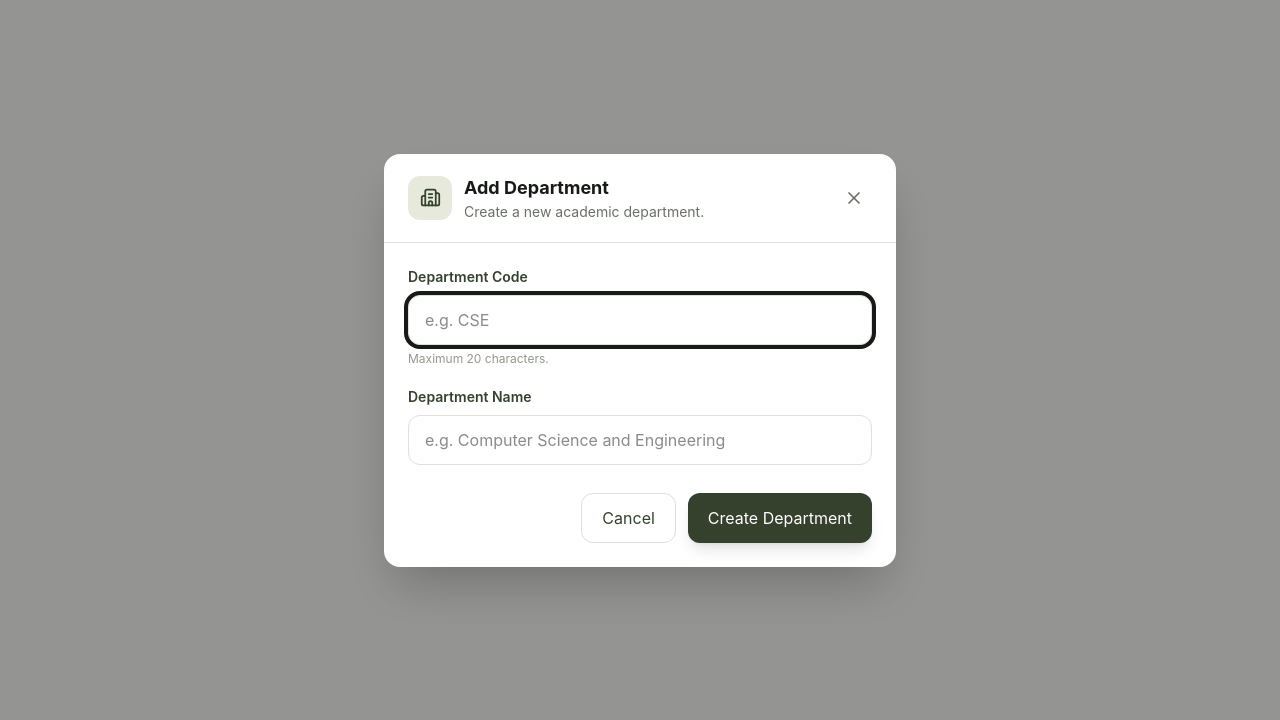
Test: Phase 10 — Master data forms › FRM-10.2: DepartmentForm surfaces a server error
The width and height of the screenshot is (1280, 720).
Type "CSE" into the field with placeholder "e.g. CSE". click: (640, 320)
box: x1=408 y1=294 x2=872 y2=344
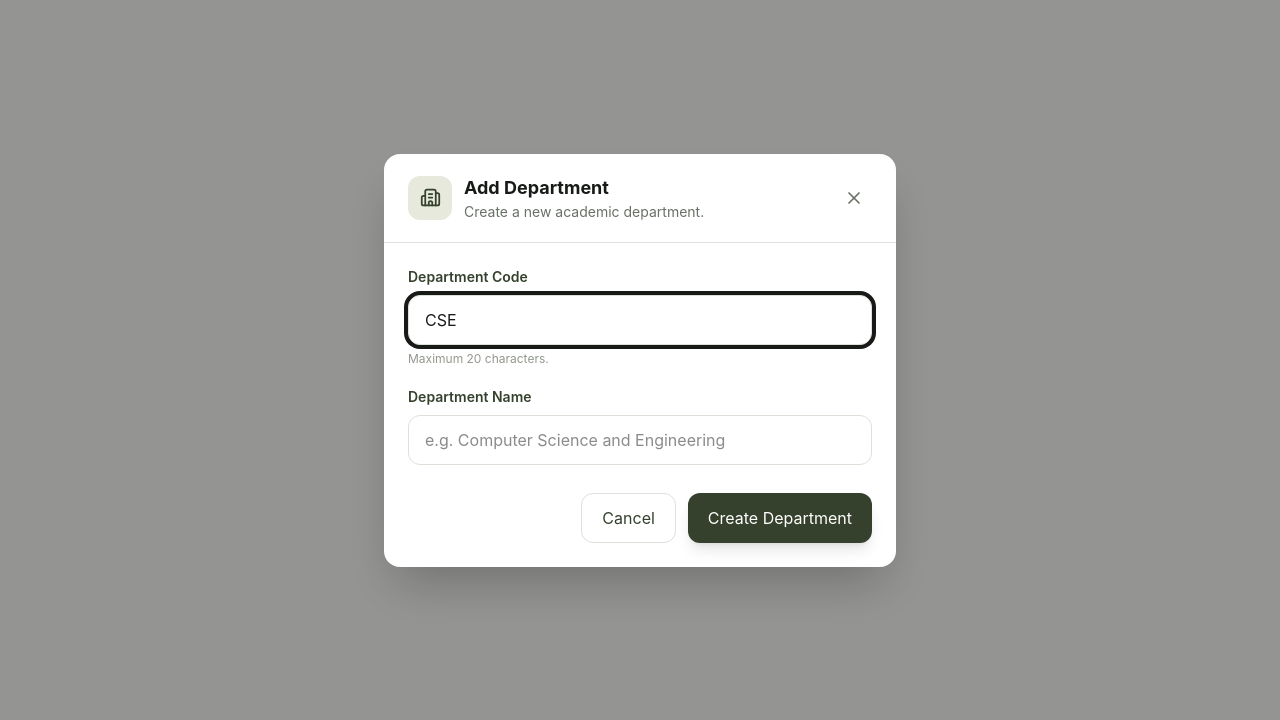
Type "Computer Science" into the field with placeholder "e.g. Computer Science and Engineering". click: (640, 440)
box: x1=408 y1=414 x2=872 y2=464
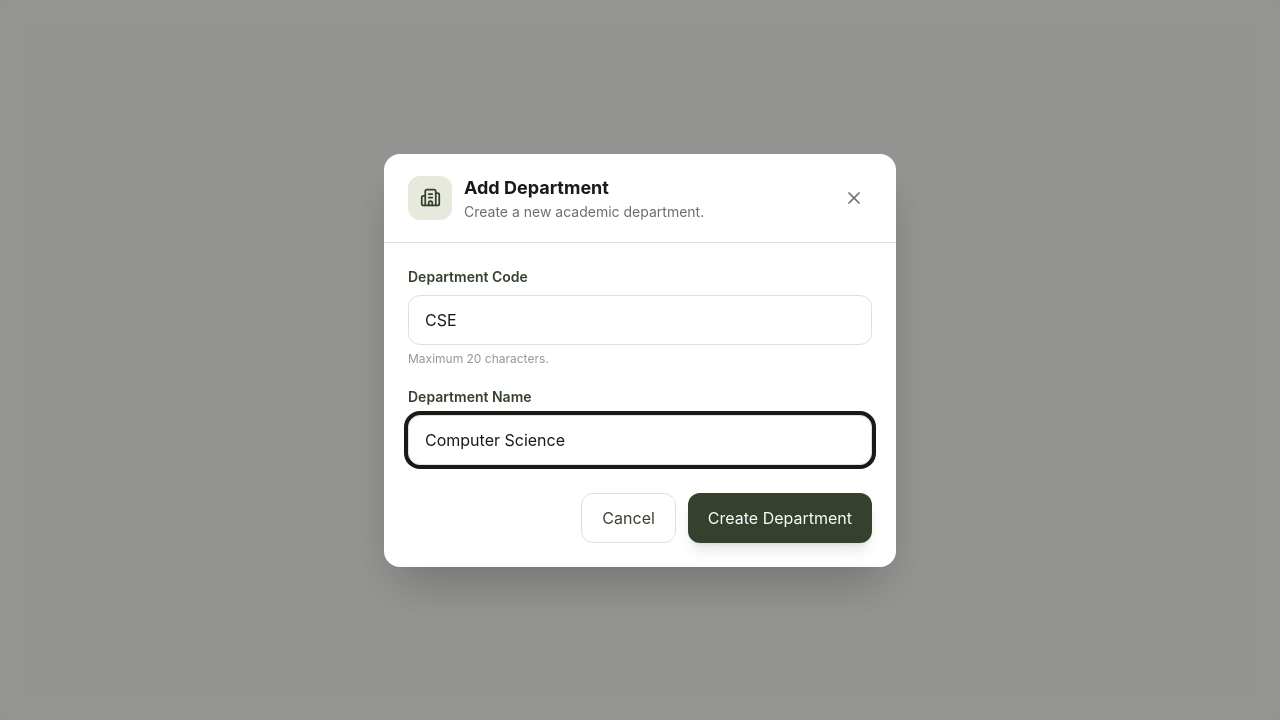
Click the button "Create Department". click: (780, 518)
box: x1=688 y1=492 x2=872 y2=542
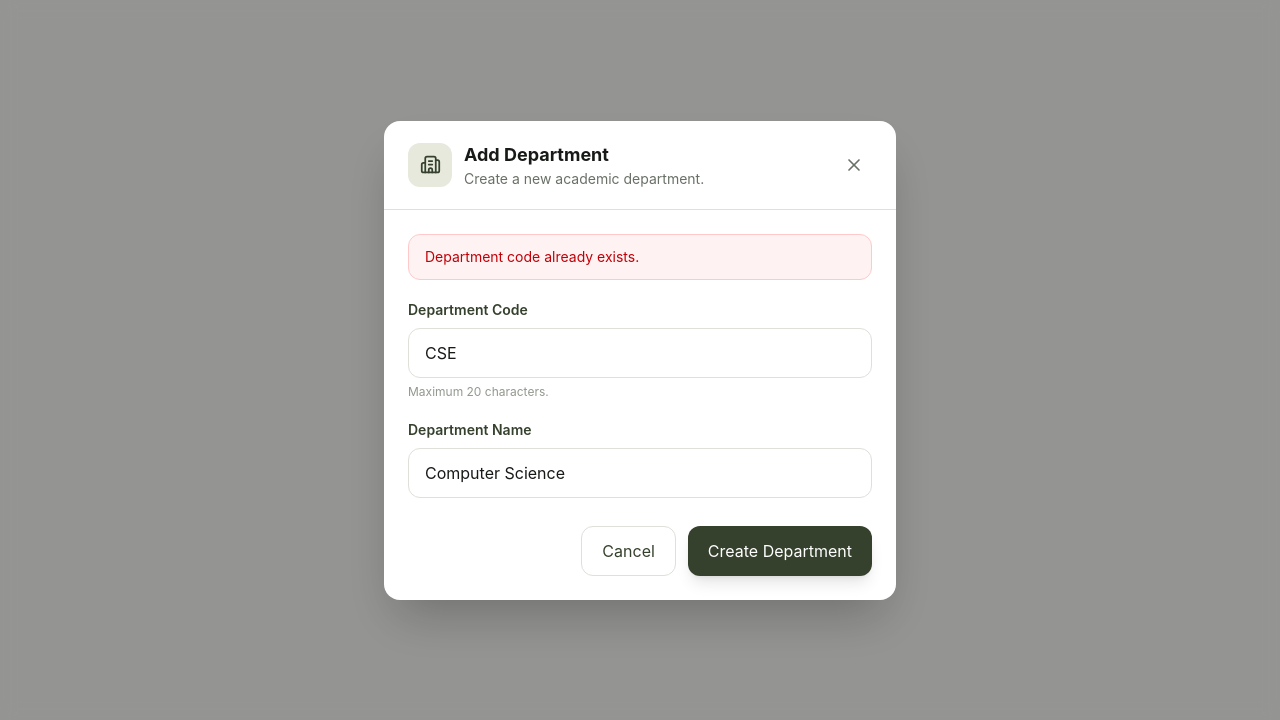
Result: the text "Department code already exists." is shown at x1=408 y1=234 x2=872 y2=280
